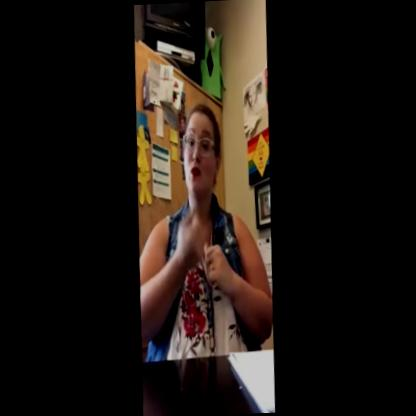HowAreYou: (169, 194, 238, 304)
